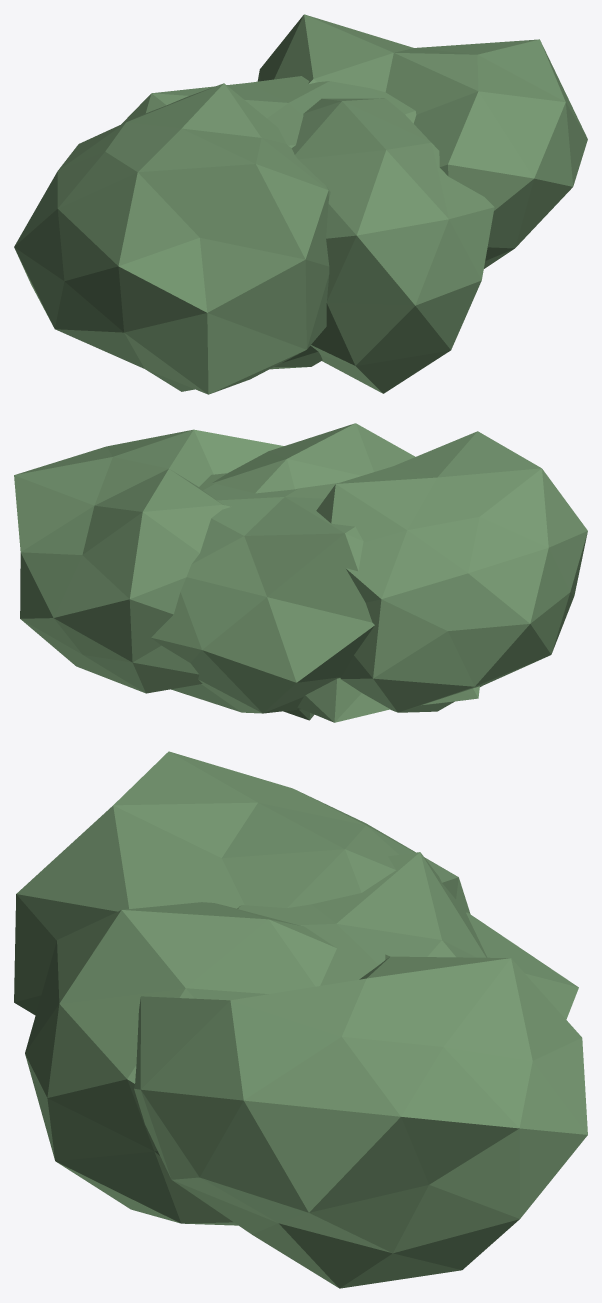
The model's file is bush_low_02.glb.
3 renders of one model, top to bottom at view 1: azimuth 30°, elevation 25°; view 2: azimuth 150°, elevation 25°; view 3: azimuth 270°, elevation 25°, orthographic. The views are drawn at different scales.
Parts seen in each view (by area): view 1: world; view 2: world; view 3: world.
Part boxes in pixels (left/top/right/bottom): world: left=14, top=14, right=587, bottom=394; world: left=14, top=423, right=587, bottom=722; world: left=14, top=751, right=587, bottom=1288.
Size of the model in its own units: 1.45 by 0.6598 by 1.06.
